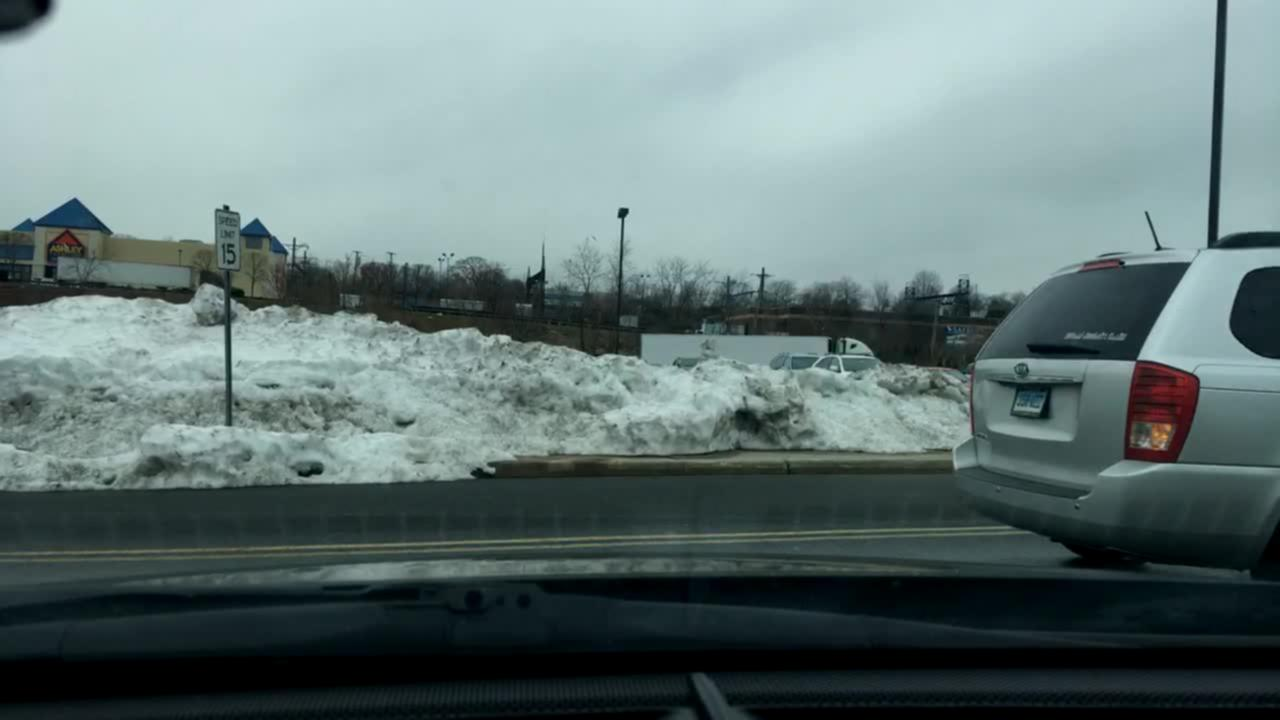kia: (1014, 362, 1033, 378)
